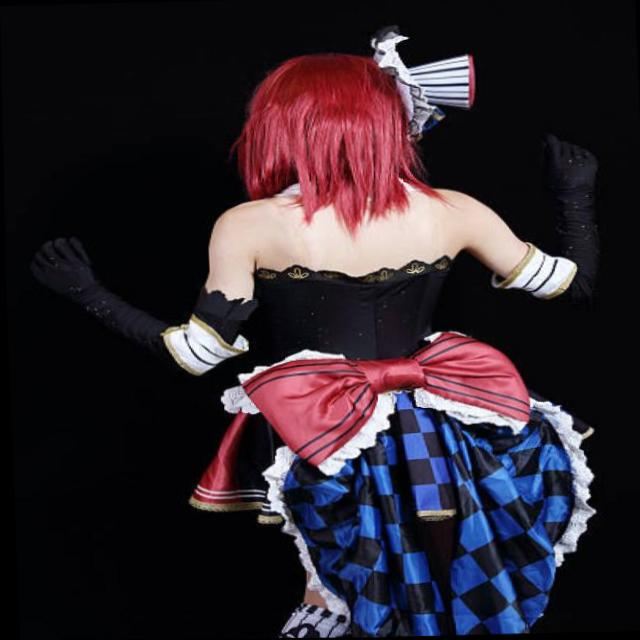no helmet: (234, 46, 428, 195)
